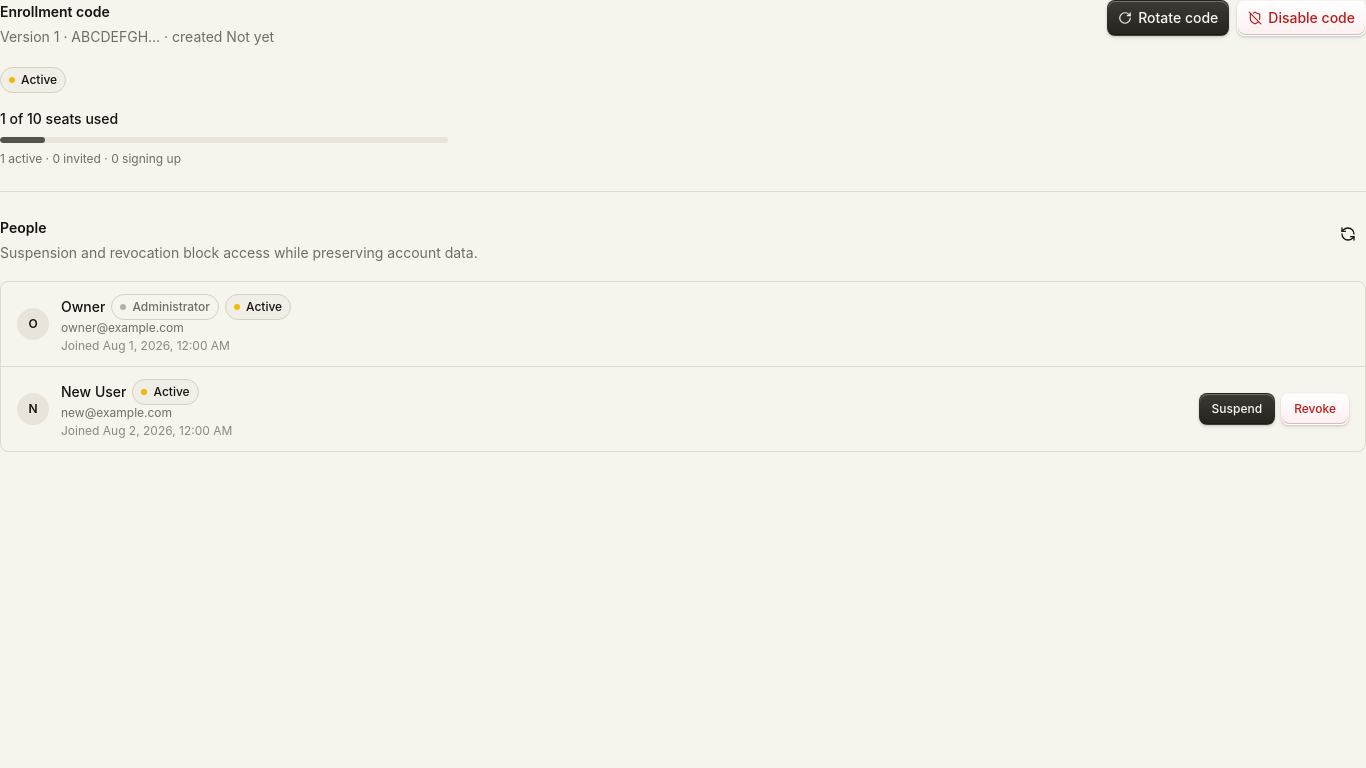
Test case: AdminPeopleAccessCard › disables the shared code without creating a replacement
The image size is (1366, 768).
Click the button "Disable code": click(1302, 18) [1237, 0, 1365, 36]
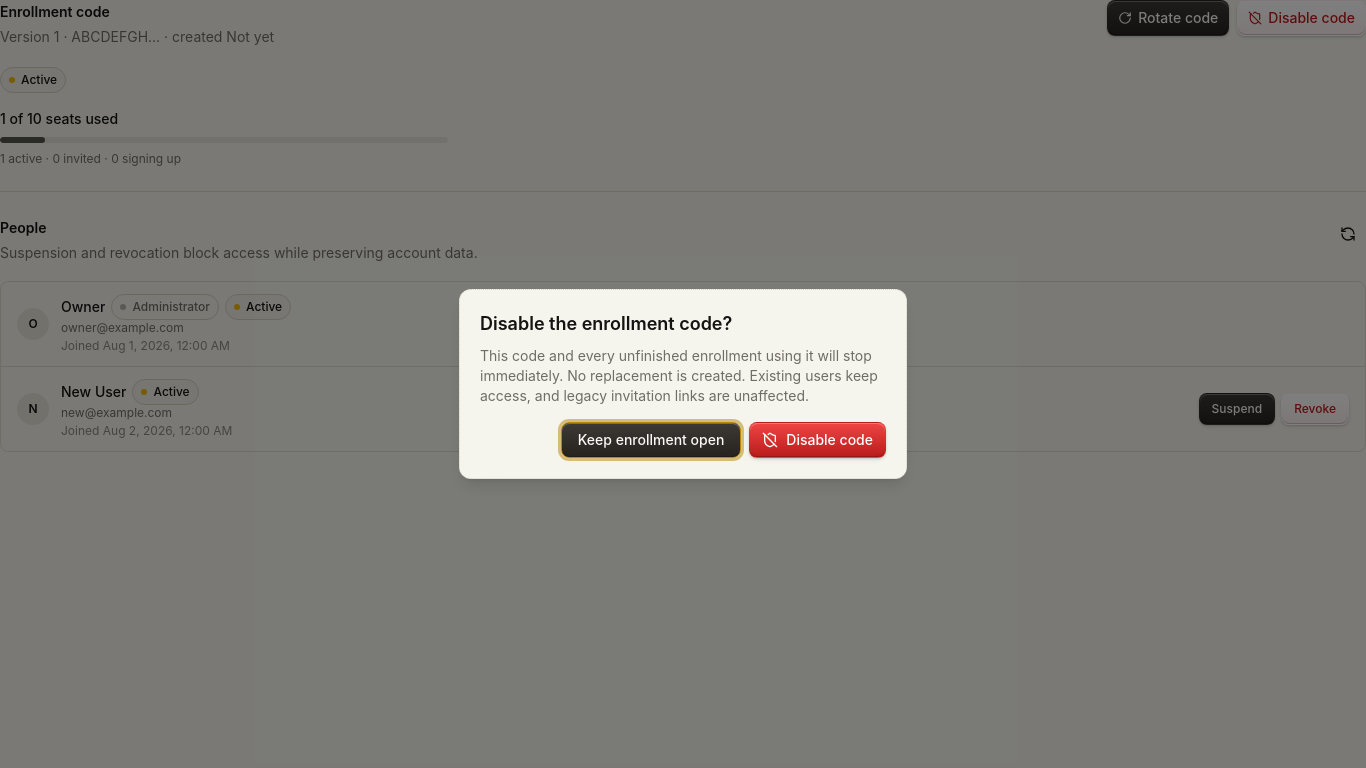
Expected: the dialog "Disable the enrollment code?" shows "no replacement", [480, 347, 878, 404]
Expected: the dialog "Disable the enrollment code?" shows "unfinished enrollment", [480, 347, 878, 404]
Click the button "Disable code": click(818, 440) [749, 422, 886, 458]
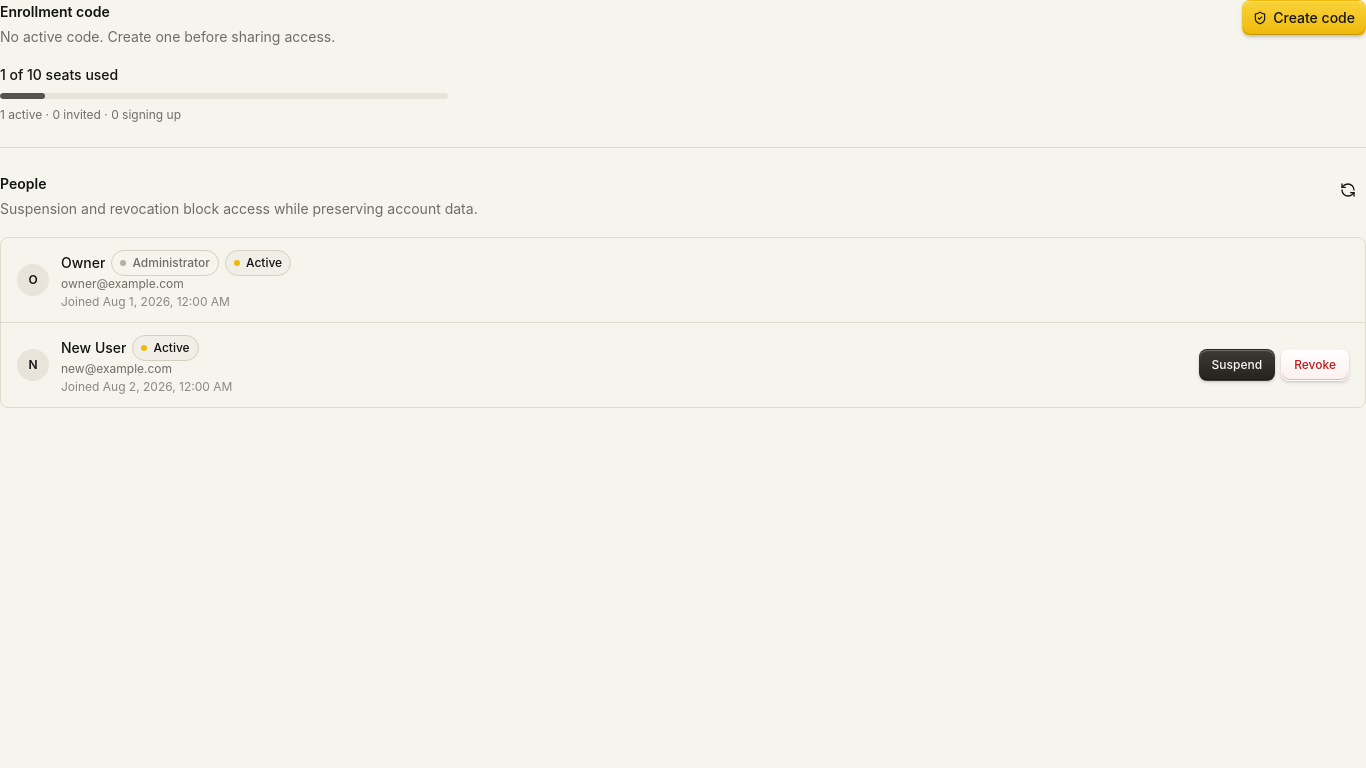
Expected: the button "Create code" is shown, [1242, 0, 1365, 36]
